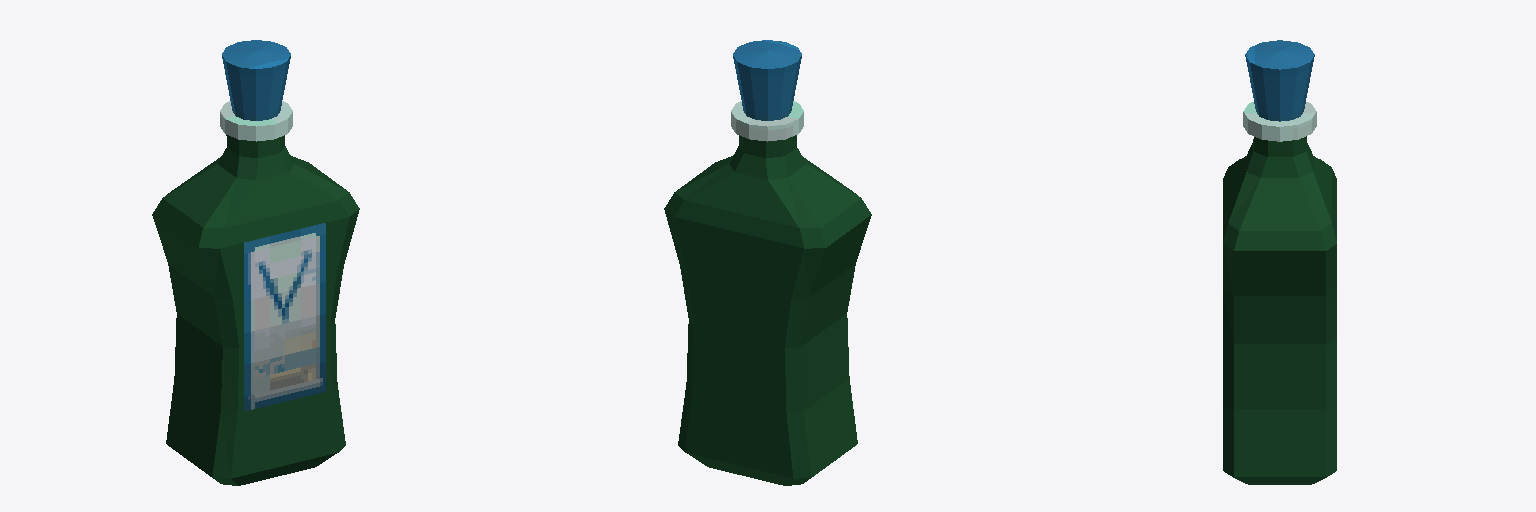
3 renders of one model, left to right at view 1: azimuth 30°, elevation 25°; view 2: azimuth 150°, elevation 25°; view 3: azimuth 270°, elevation 25°, orthographic.
Visible parts, largest first — view 1: Liquor_LiquorMesh; view 2: Liquor_LiquorMesh; view 3: Liquor_LiquorMesh.
Boxes of the visible parts, x1,y1,x2,y2 form: Liquor_LiquorMesh: [152, 40, 359, 485]; Liquor_LiquorMesh: [664, 40, 871, 485]; Liquor_LiquorMesh: [1223, 40, 1336, 484].
Bounding box in the file's own units: 0.2056 × 0.4991 × 0.1263.
1 materials, 1 textured.